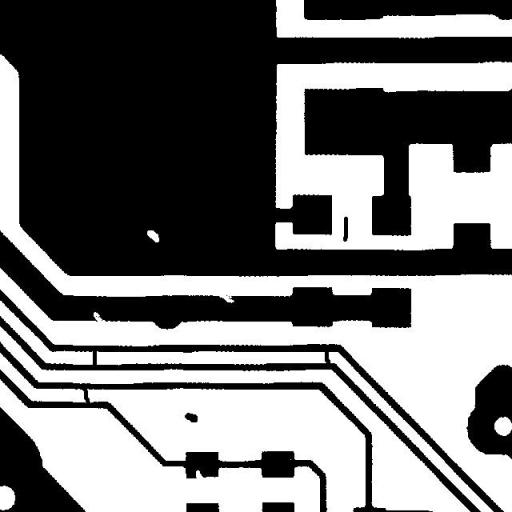copper: (335, 209, 355, 249), (177, 404, 205, 430)
mousebite: (86, 304, 114, 331), (211, 286, 242, 310), (188, 462, 210, 488)
pin-hole: (140, 222, 166, 250)
short: (74, 378, 98, 412), (316, 343, 338, 374), (85, 341, 104, 375)
